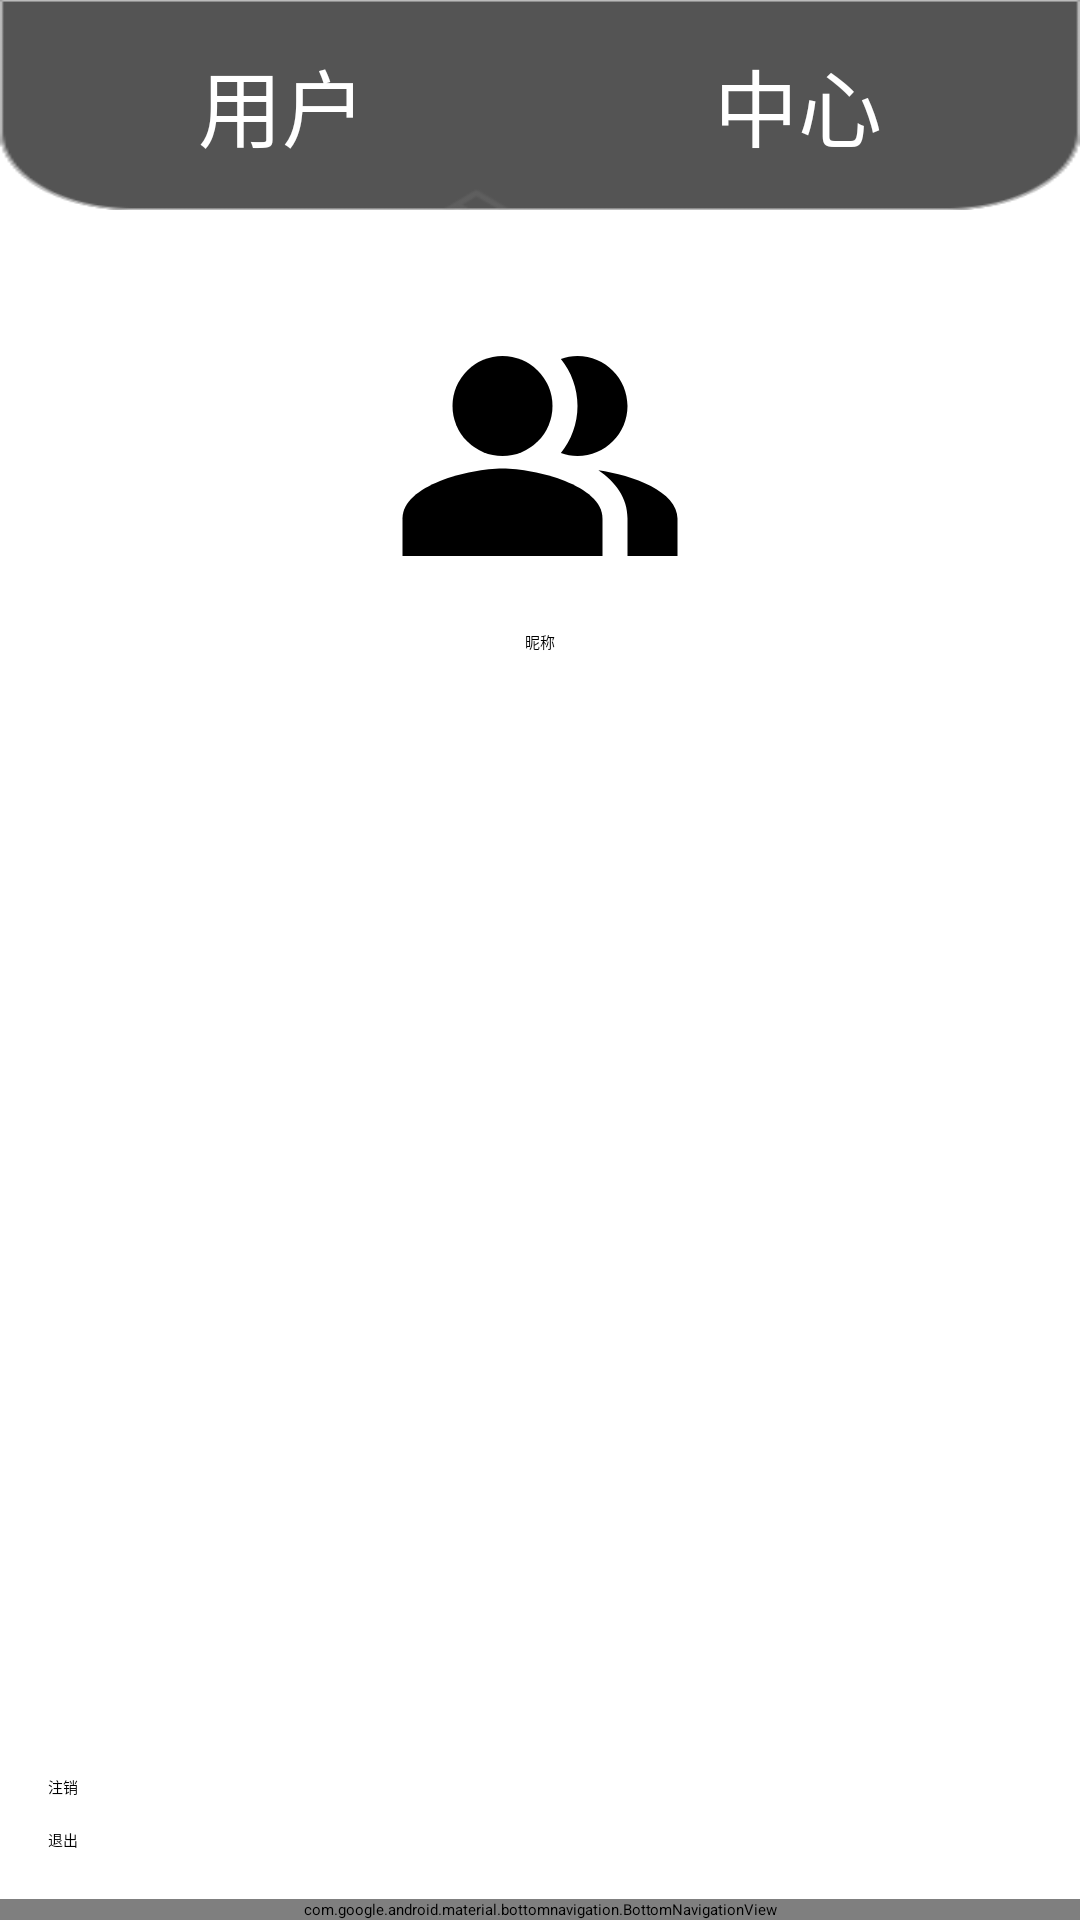

Icon bounding boxes for this 1080w x 1920h phone screenshot, format (x1, y1, x2, y2):
user: (402, 356, 678, 556)
